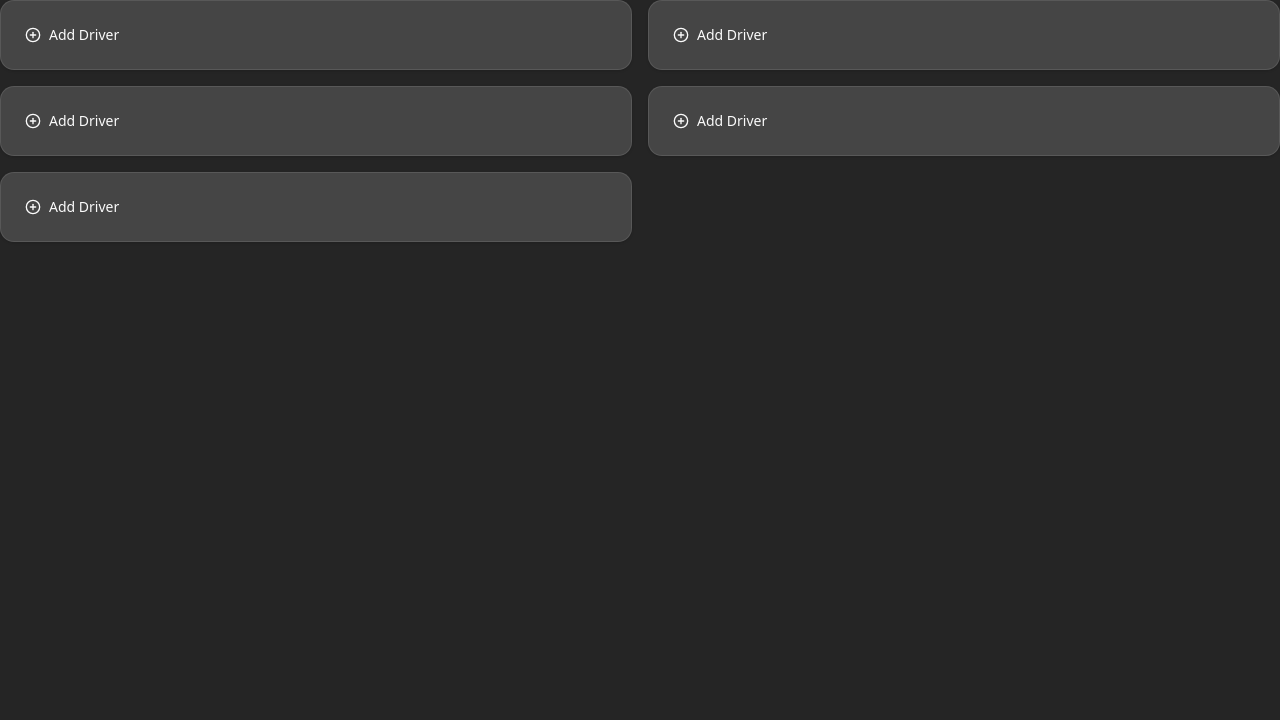
Test: DriverPicker › Driver Removal › removes driver from slot when remove button is clicked
This screenshot has width=1280, height=720.
Click the 1st button "Add Driver" at (72, 35), box [13,17,131,53]
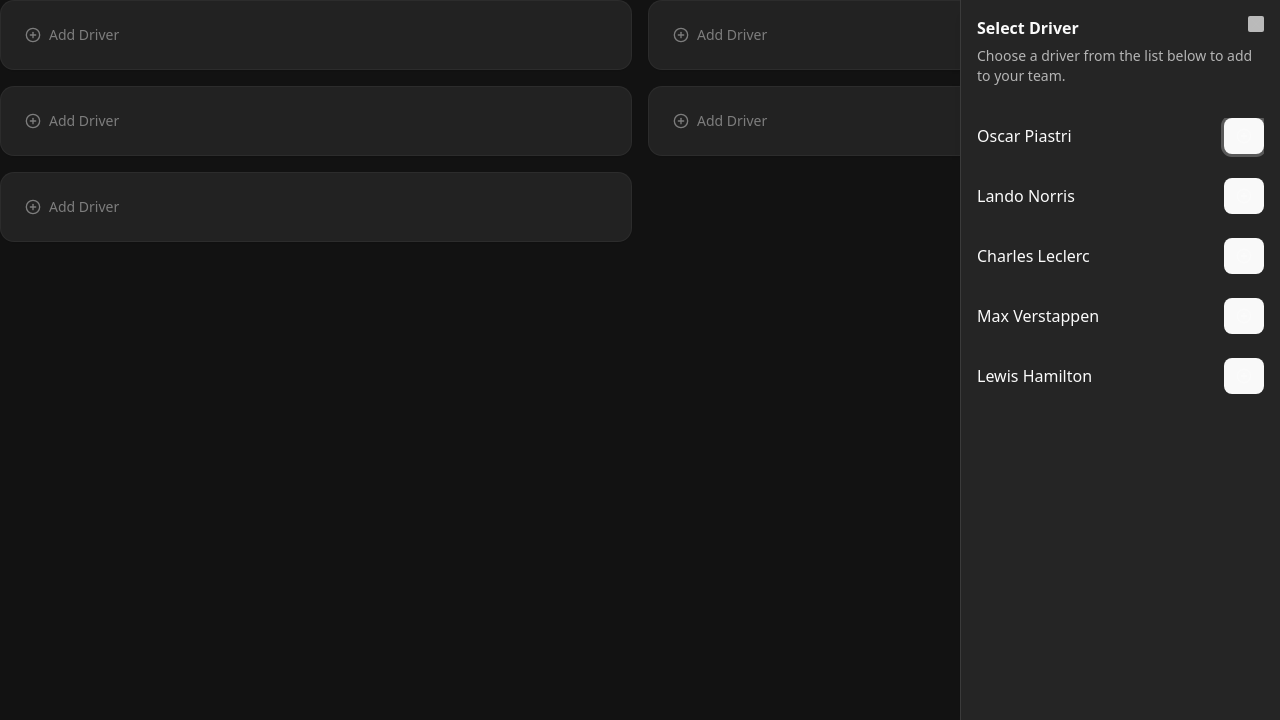
Now the heading "Select Driver" is shown, box [977,17,1079,39]
Click the button named "add driver" in the row of "Oscar" at (1244, 136), box [1224,118,1264,154]
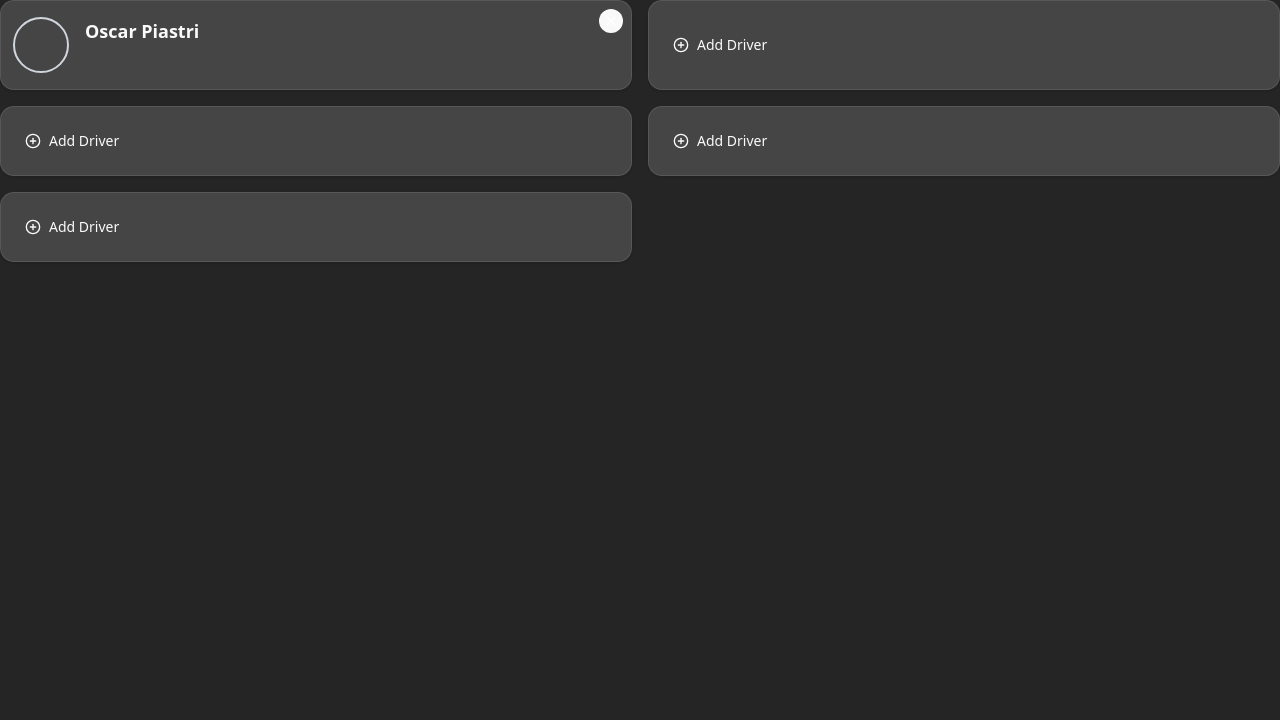
Now the heading "Select Driver" is gone
Click the button named "remove role" at (611, 21), box [599,9,623,33]
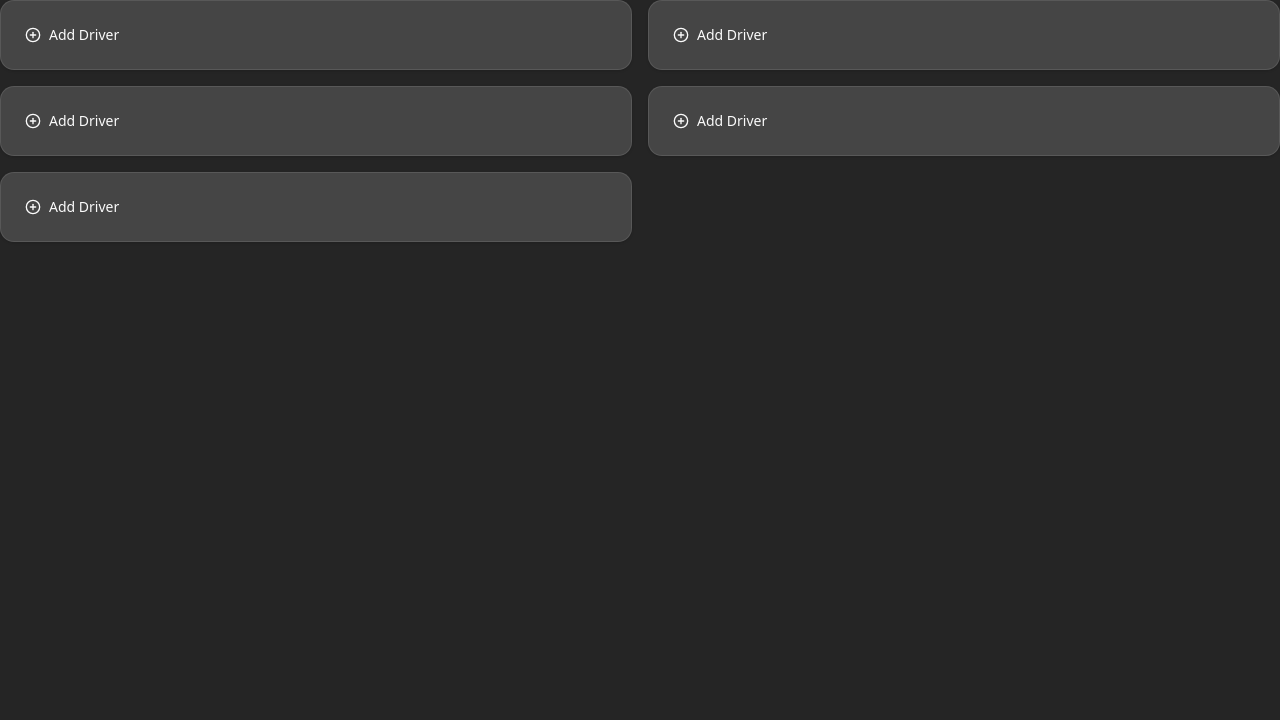
Now the heading "Oscar Piastri" is gone
Now the number of buttons "Add Driver" is 5, box [13,17,131,53]; [661,17,779,53]; [13,103,131,139]; [661,103,779,139]; [13,189,131,225]
